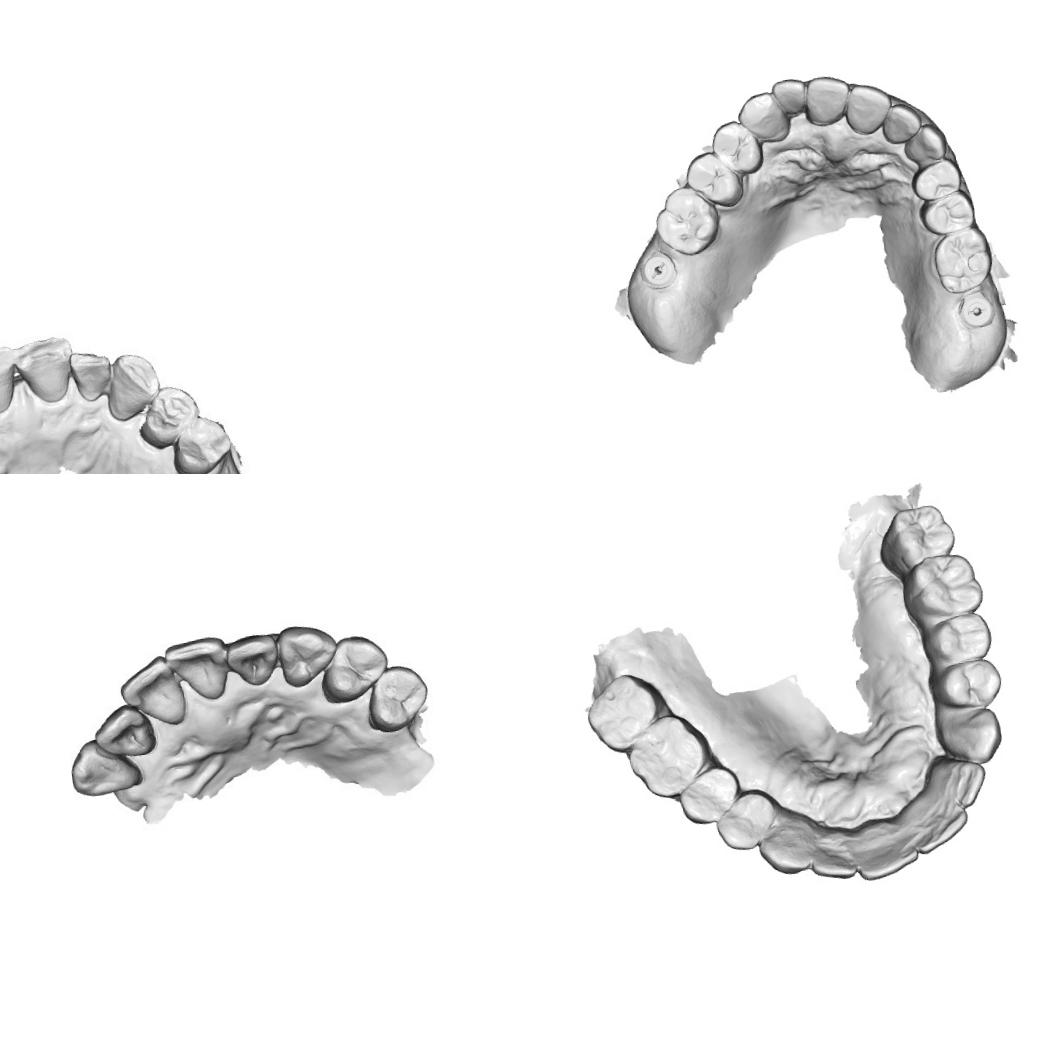canine: (268, 616, 341, 692), (64, 734, 146, 800), (98, 346, 165, 426), (932, 705, 1008, 769), (754, 812, 816, 881), (734, 88, 792, 146), (900, 121, 949, 164)
implant_minus: (954, 288, 999, 332), (637, 248, 680, 291)
incisor: (119, 654, 187, 732), (14, 334, 79, 406), (850, 828, 928, 884), (92, 701, 162, 762), (168, 635, 229, 704), (909, 800, 974, 856), (224, 630, 280, 690), (841, 80, 896, 138), (806, 836, 863, 890), (802, 72, 854, 128), (66, 344, 114, 403), (941, 756, 988, 813), (879, 100, 924, 146), (770, 76, 810, 120), (0, 342, 20, 416)
molar: (619, 708, 717, 807), (580, 668, 670, 758), (907, 553, 990, 621), (651, 182, 724, 259), (929, 224, 996, 297), (880, 504, 956, 565)
premolar: (318, 628, 394, 702), (709, 784, 787, 856), (672, 759, 748, 831), (131, 381, 205, 454), (364, 660, 432, 734), (927, 654, 1008, 714), (920, 610, 995, 668), (681, 147, 746, 213), (170, 411, 237, 474), (706, 116, 766, 179), (918, 187, 978, 237), (907, 156, 964, 204)
